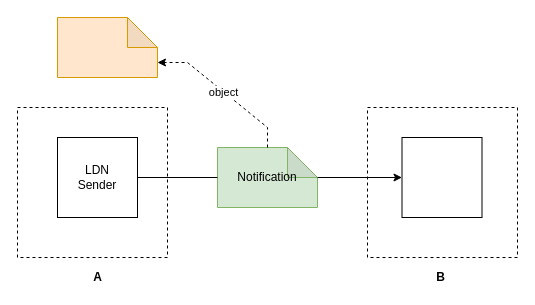
Image size: 535x305. Some labels were removed from this diagram. The box of each missing label's shape, as (x1, y1, x2, y2) in pixels:
Artifact: (56, 16, 158, 78)
LDN Receiver: (401, 136, 482, 218)
